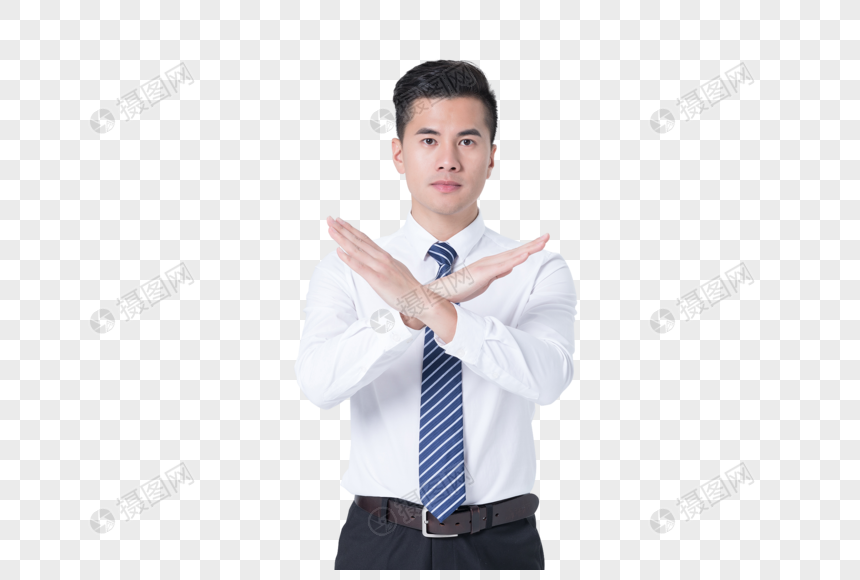no-phone: (310, 202, 434, 323), (424, 226, 570, 319)
